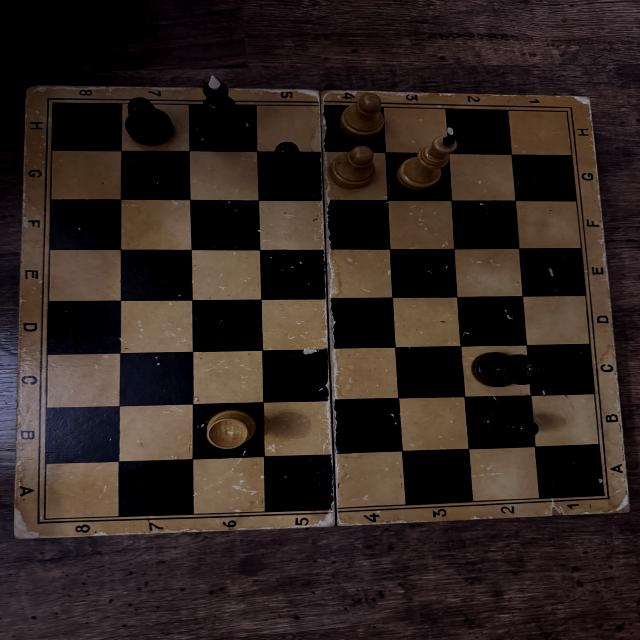black-king: (198, 74, 246, 147)
black-pawn: (474, 401, 540, 445), (260, 141, 313, 191), (126, 97, 174, 146)
black-rook: (470, 351, 545, 388)
white-king: (397, 133, 456, 194)
white-pawn: (341, 93, 390, 139), (329, 145, 378, 189)
white-rook: (204, 410, 258, 450)
